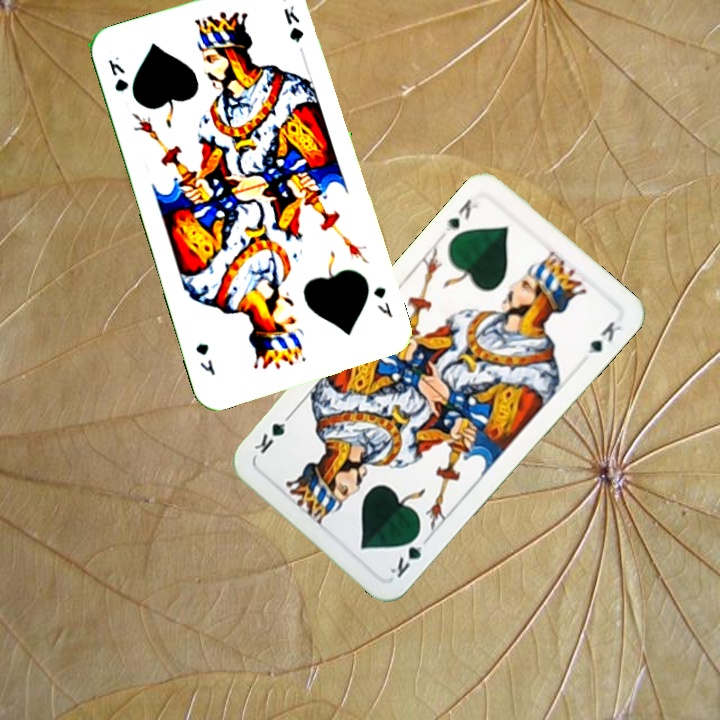GK: (384, 528, 432, 581), (441, 194, 481, 235), (104, 52, 131, 95), (369, 282, 396, 320)
